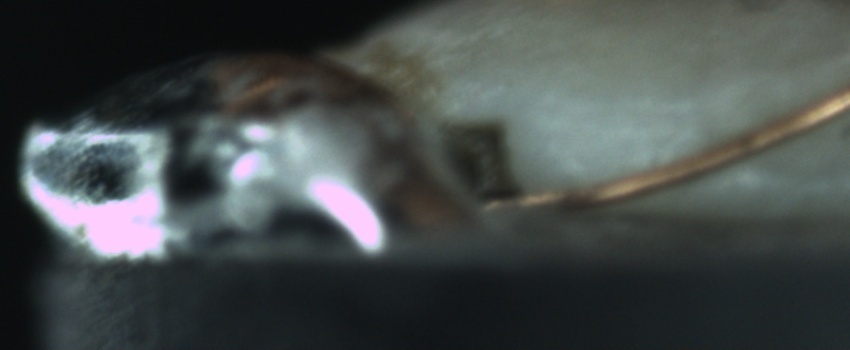DL: (561, 86, 705, 143)
